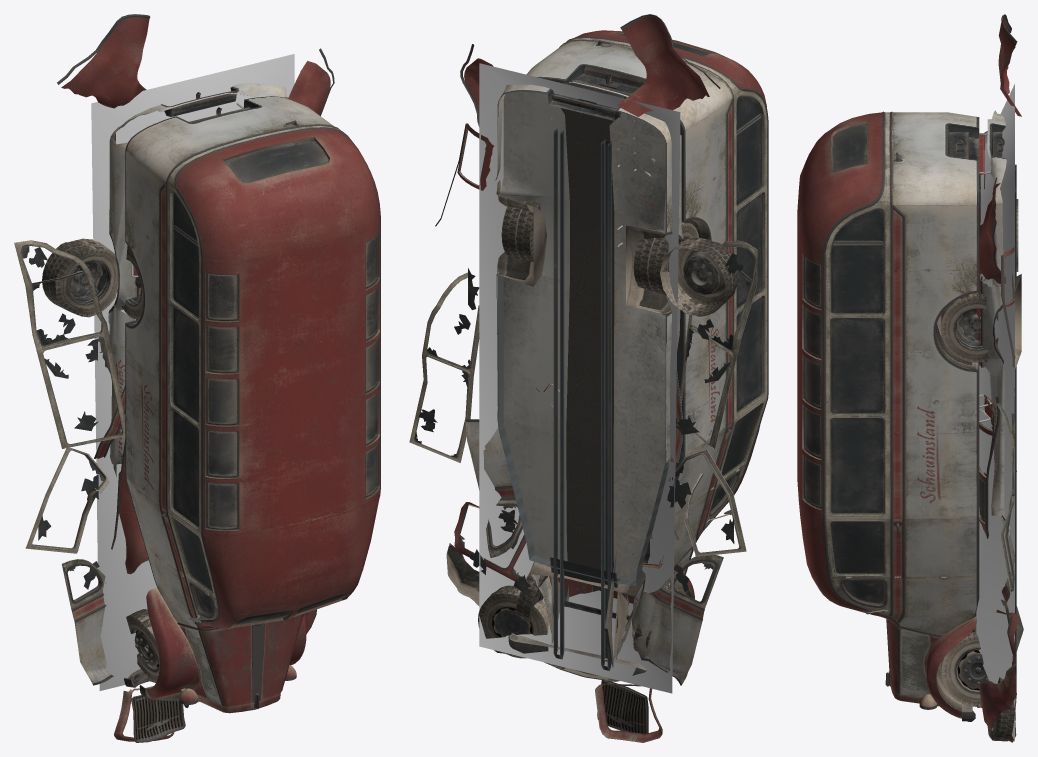
File: hd_envEU_011_Bus.glb
The picture shows the model from 3 angles, left to right: view 1: azimuth 30°, elevation 25°; view 2: azimuth 150°, elevation 25°; view 3: azimuth 270°, elevation 25°; orthographic projection. The views are drawn at different scales.
Parts seen in each view (by area): view 1: set_0_group_2, set_0_group_1, set_0_group_0; view 2: set_0_group_1, set_0_group_2, set_0_group_0; view 3: set_0_group_2, set_0_group_1, set_0_group_0.
Part boxes in pixels (x1,y1,x2,y2): set_0_group_2: (117,96,380,713); set_0_group_1: (14,14,334,742); set_0_group_0: (91,54,294,690); set_0_group_1: (409,14,757,742); set_0_group_2: (501,30,768,651); set_0_group_0: (479,63,680,693); set_0_group_2: (797,111,998,721); set_0_group_1: (976,14,1023,742); set_0_group_0: (976,84,1014,741).
Bounding box in the file's own units: 4.65 × 9.29 × 2.69.
Materials: 3 (2 with a texture image).
